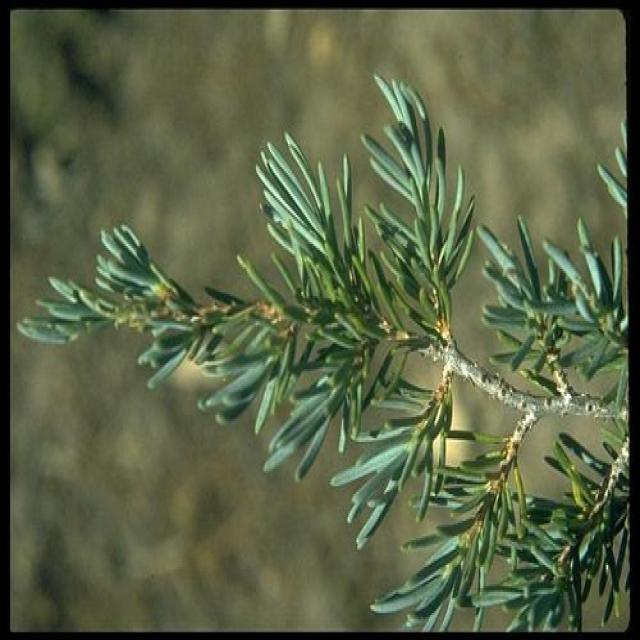Tsuga mertensiana: (10, 36, 637, 640)
